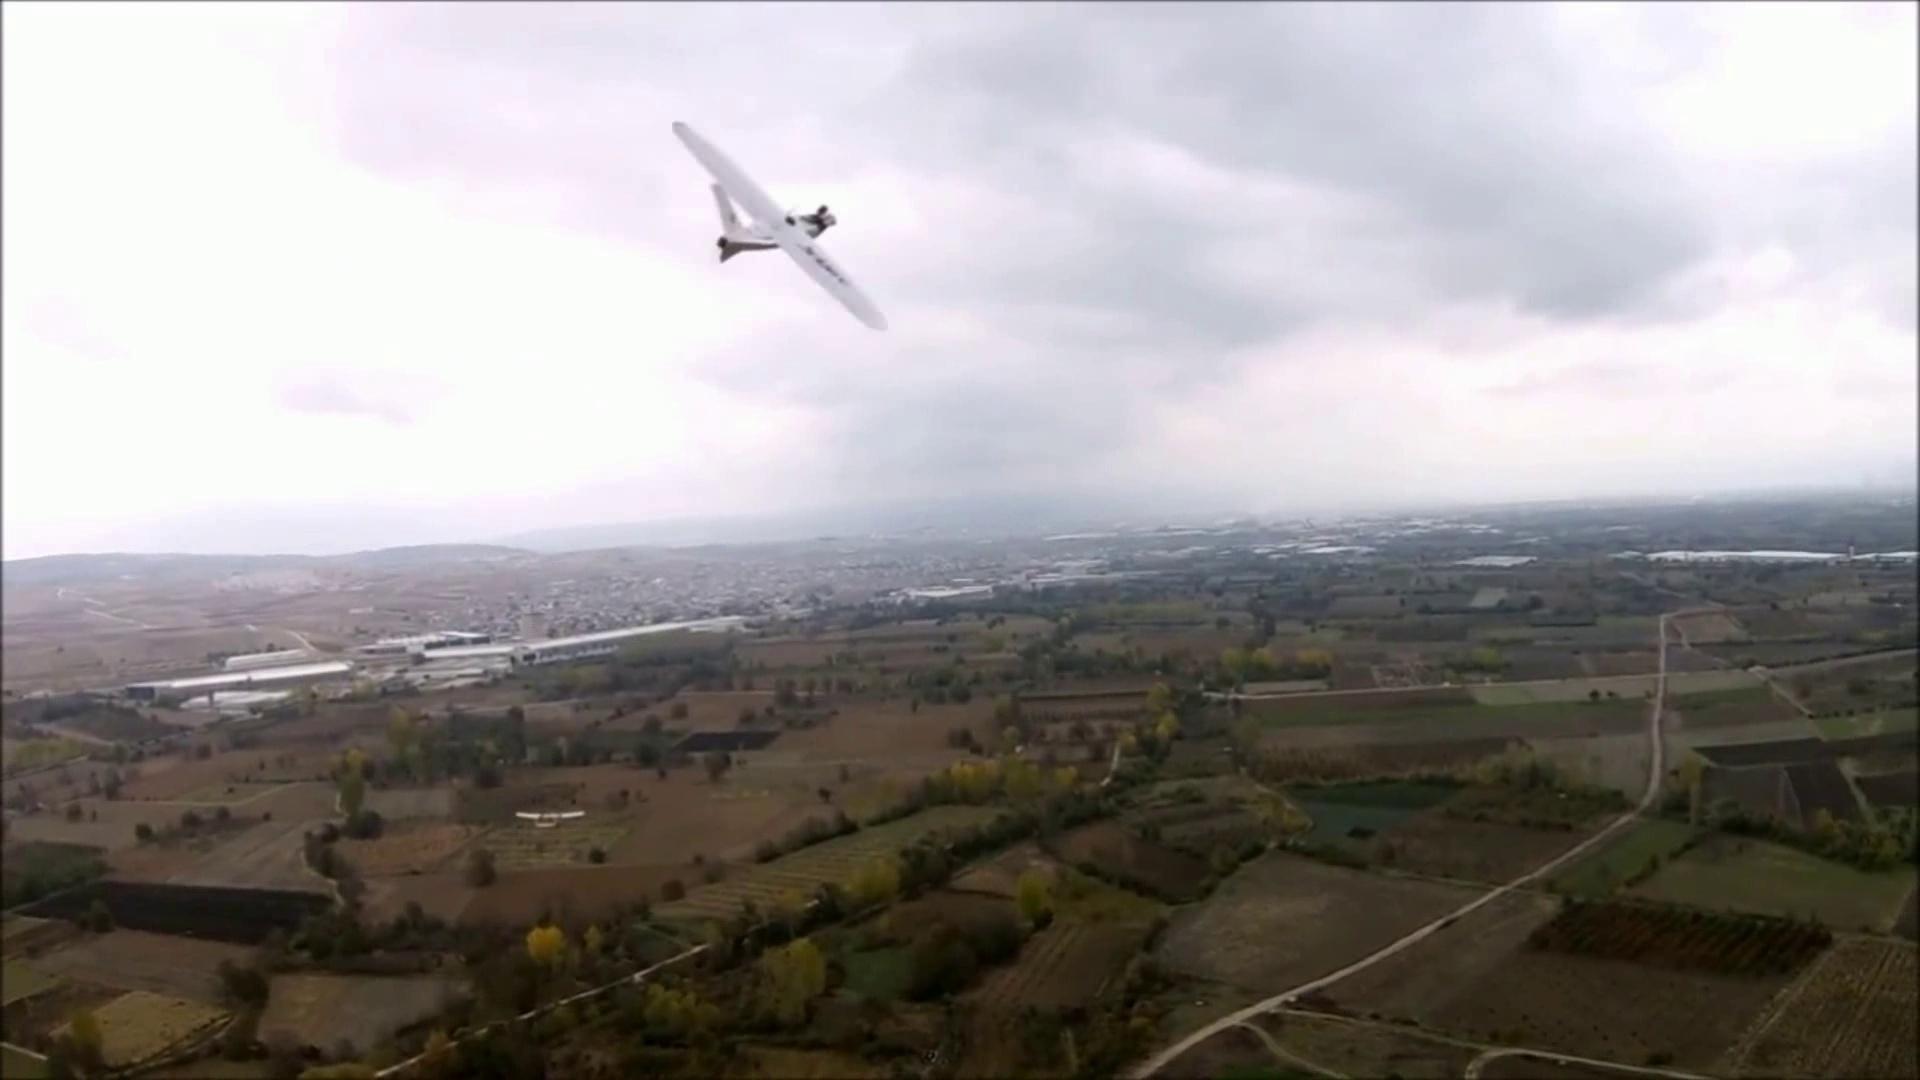airplane: (670, 121, 890, 334)
